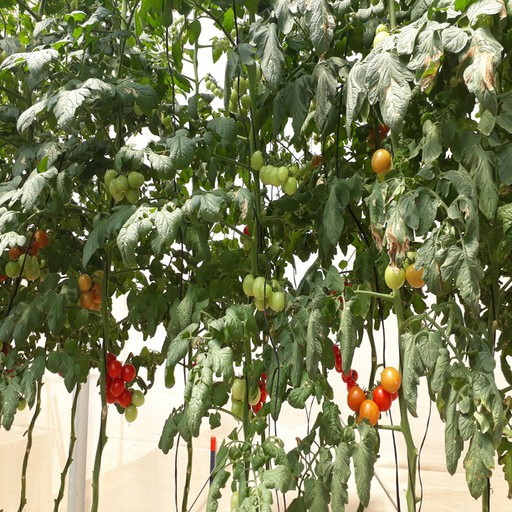green tomato bunch: (251, 150, 298, 196), (245, 275, 284, 312), (105, 169, 143, 205), (229, 376, 258, 423)
mixed tomato bunch: (385, 249, 454, 294), (103, 351, 146, 419), (10, 229, 49, 281), (78, 270, 106, 309), (238, 223, 263, 257)
red tomato bunch: (348, 367, 400, 423), (323, 336, 358, 385), (246, 371, 274, 417)
